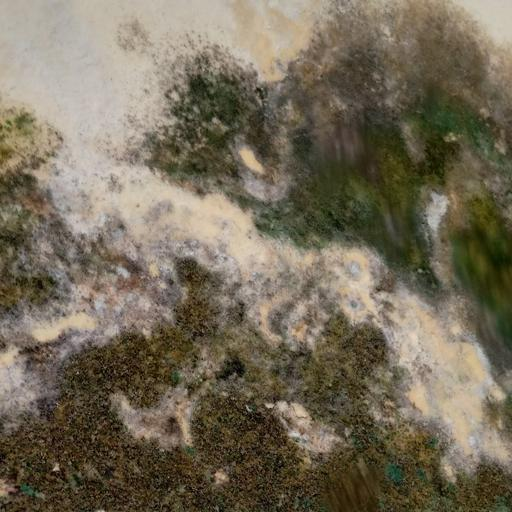algae: (0, 30, 512, 512)
